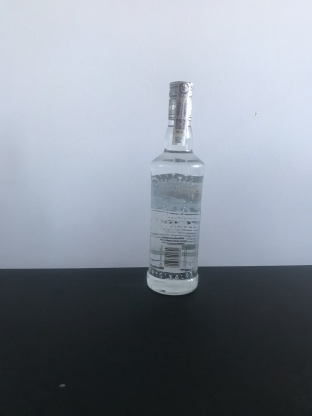nakretka: (166, 76, 195, 124)
